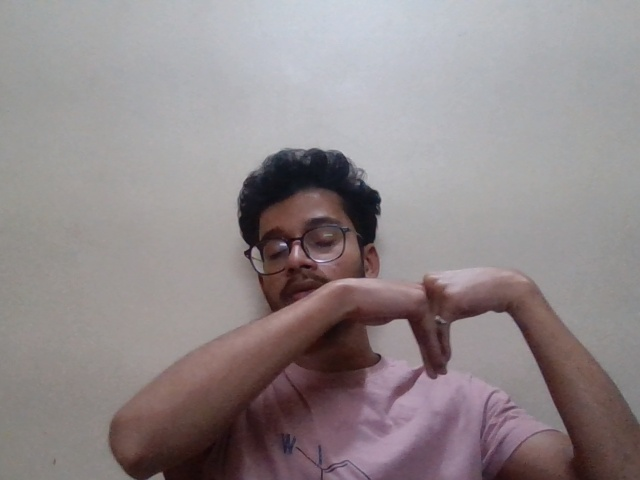yesterday: (327, 258, 540, 390)
